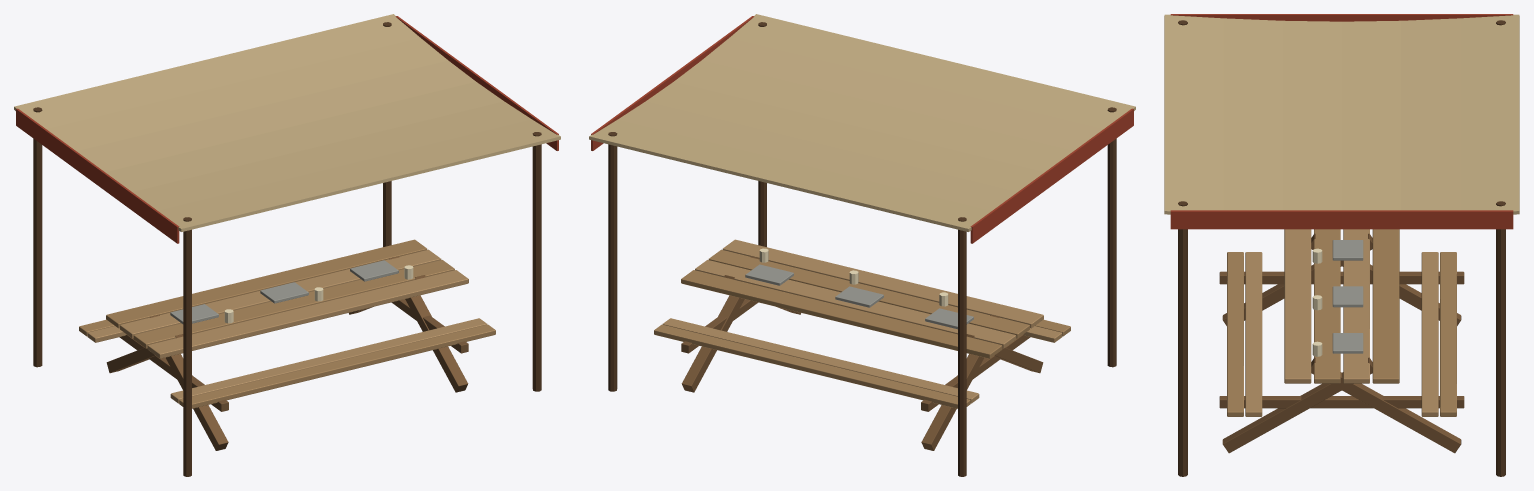
File: MessTable.glb
3 views of the same model, side by side, from view 1: azimuth 30°, elevation 25°; view 2: azimuth 150°, elevation 25°; view 3: azimuth 270°, elevation 25° (orthographic). The views are drawn at different scales.
Parts seen in each view (by area): view 1: MessTable.001; view 2: MessTable.001; view 3: MessTable.001.
Boxes of the visible parts, <box> form: MessTable.001: <box>14,14,560,476</box>; MessTable.001: <box>589,14,1135,476</box>; MessTable.001: <box>1164,14,1519,476</box>.
Bounding box in the file's own units: 3.82 × 2.49 × 2.9.
